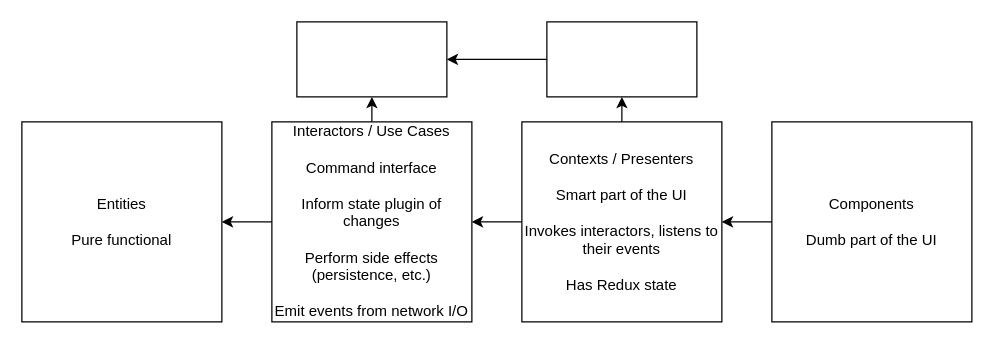
Image size: 994x344. Some labels were removed from this diagram. The centre of each missing label's shape, as x and y in pixels:
State plugin (Implementation, reducers): the point at 621,59
State plugin (Interface, actions): the point at 371,59
